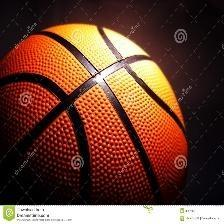Sports-Ball: (3, 26, 189, 208)
